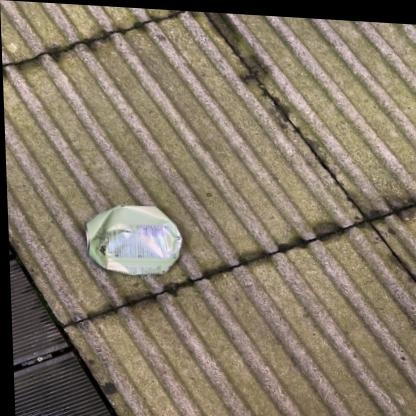trash: (86, 205, 181, 274)
